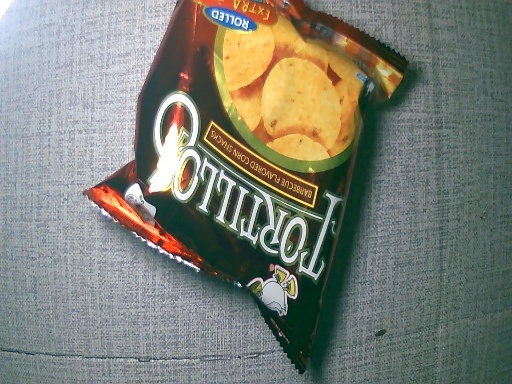plastic: (86, 1, 407, 372)
